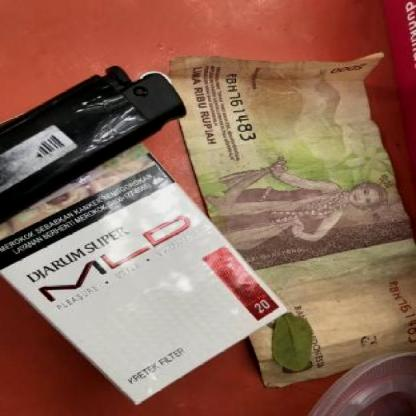objects: (0, 145, 286, 404)
